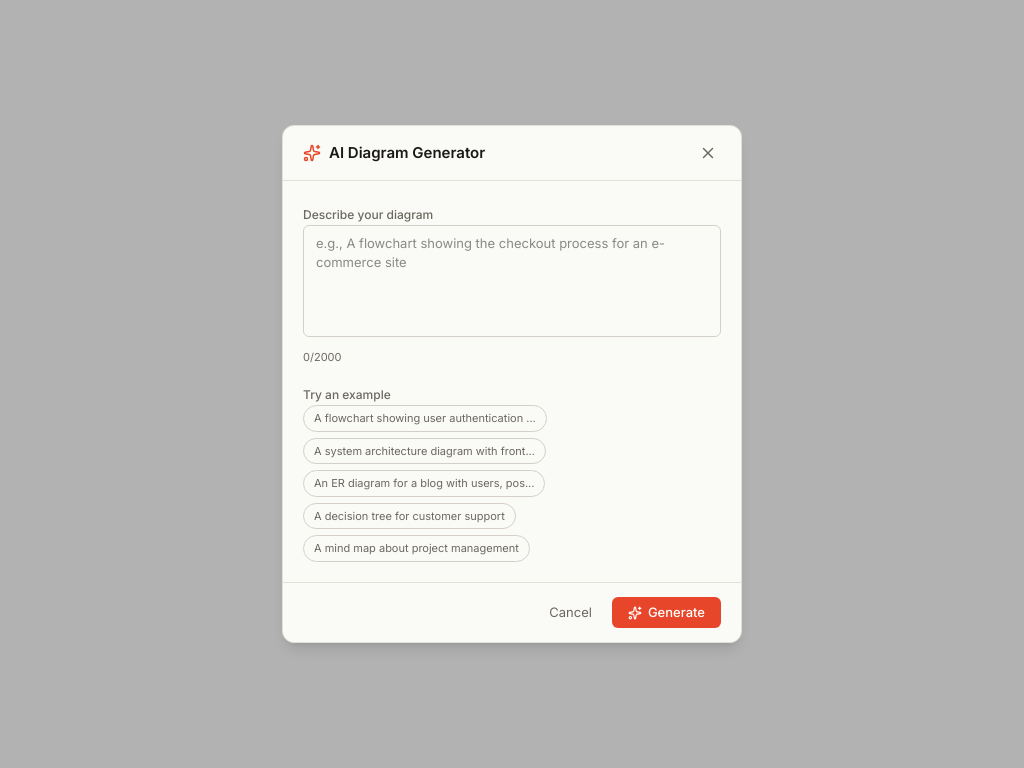
Test: AIGenerateModal releases the busy flag on failure › shows the failure and makes Generate usable again
Replace the text in the text box labelled "Describe your diagram" with "A simple architecture diagram": (512, 281) [303,225,721,337]
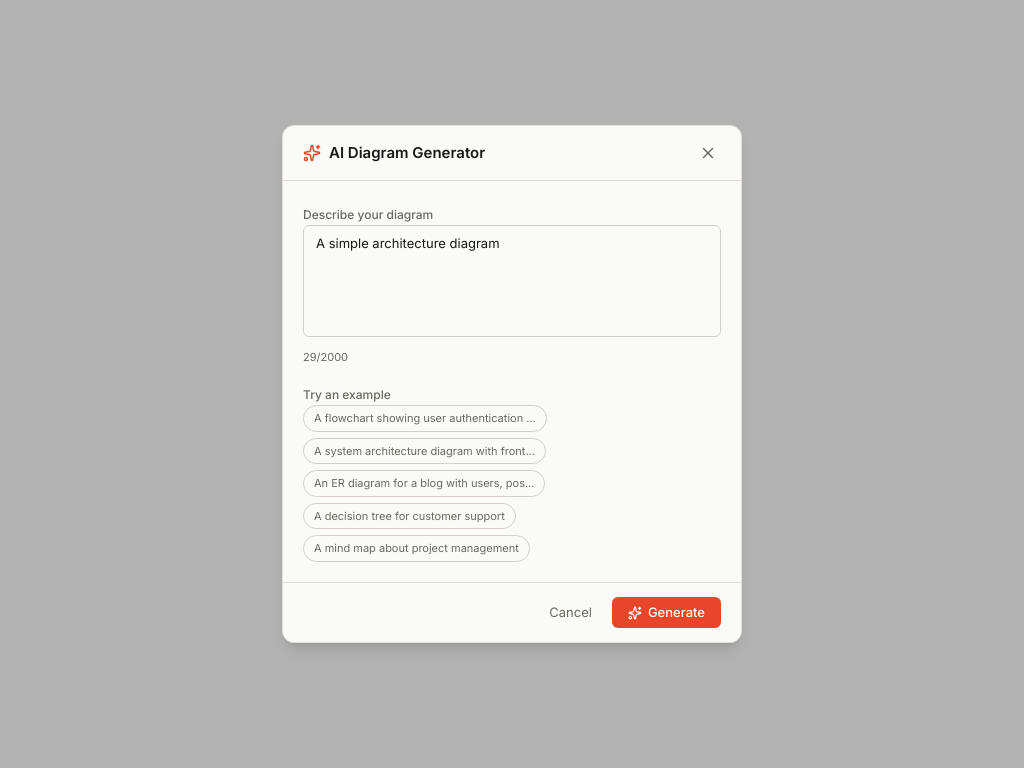
Click the button "Generate": (666, 613) [612,597,721,628]
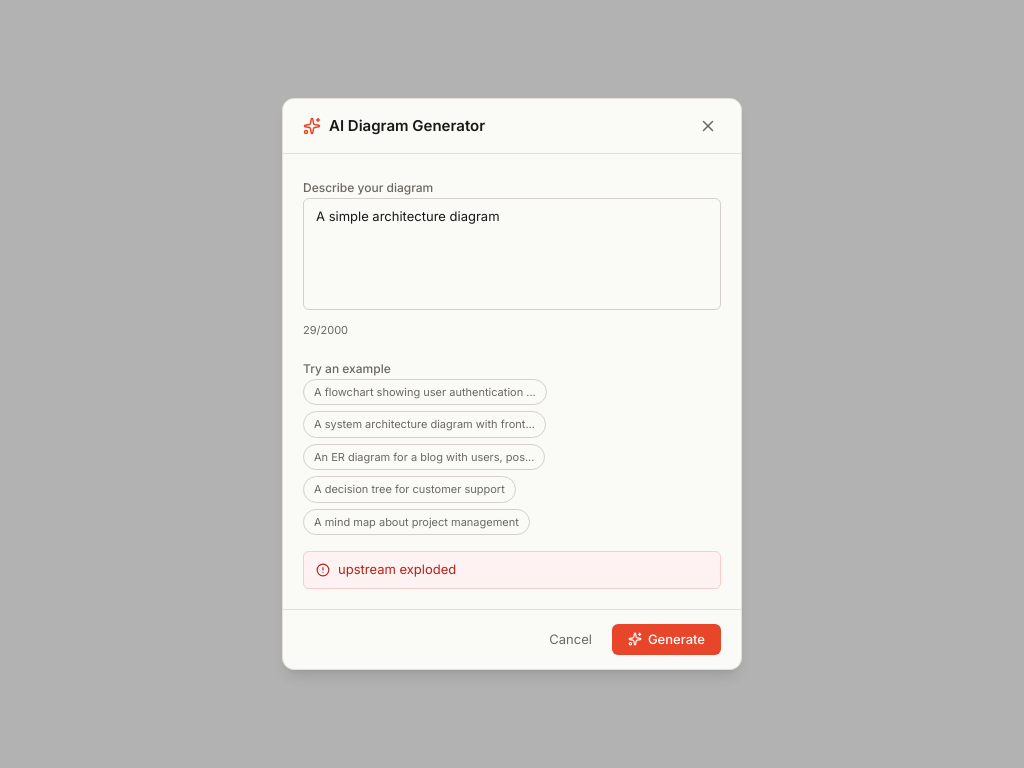
Expected: the text box labelled "Describe your diagram" is enabled, [303,198,721,310]
Expected: the button "Generate" is enabled, [612,624,721,655]
Expected: the message reads "upstream exploded", [338,561,456,577]
